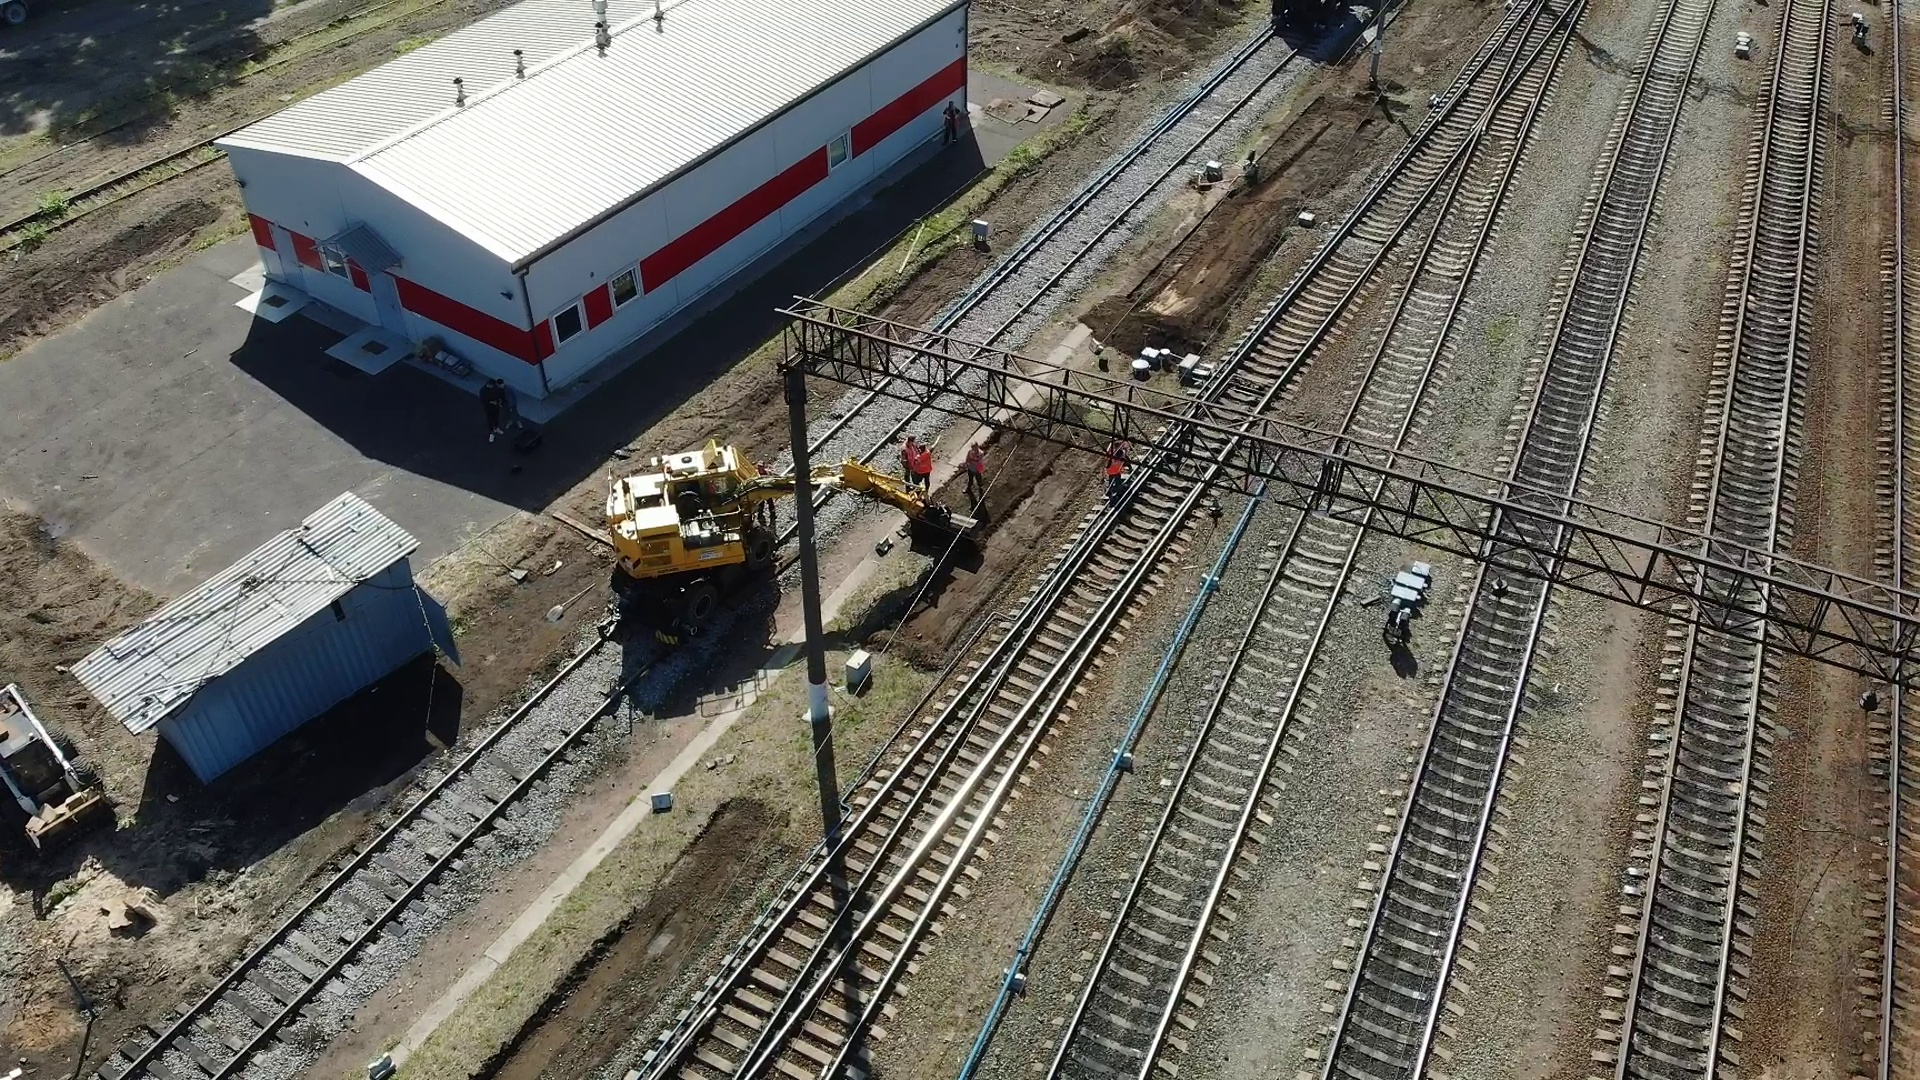kjtv: (597, 444, 837, 618)
